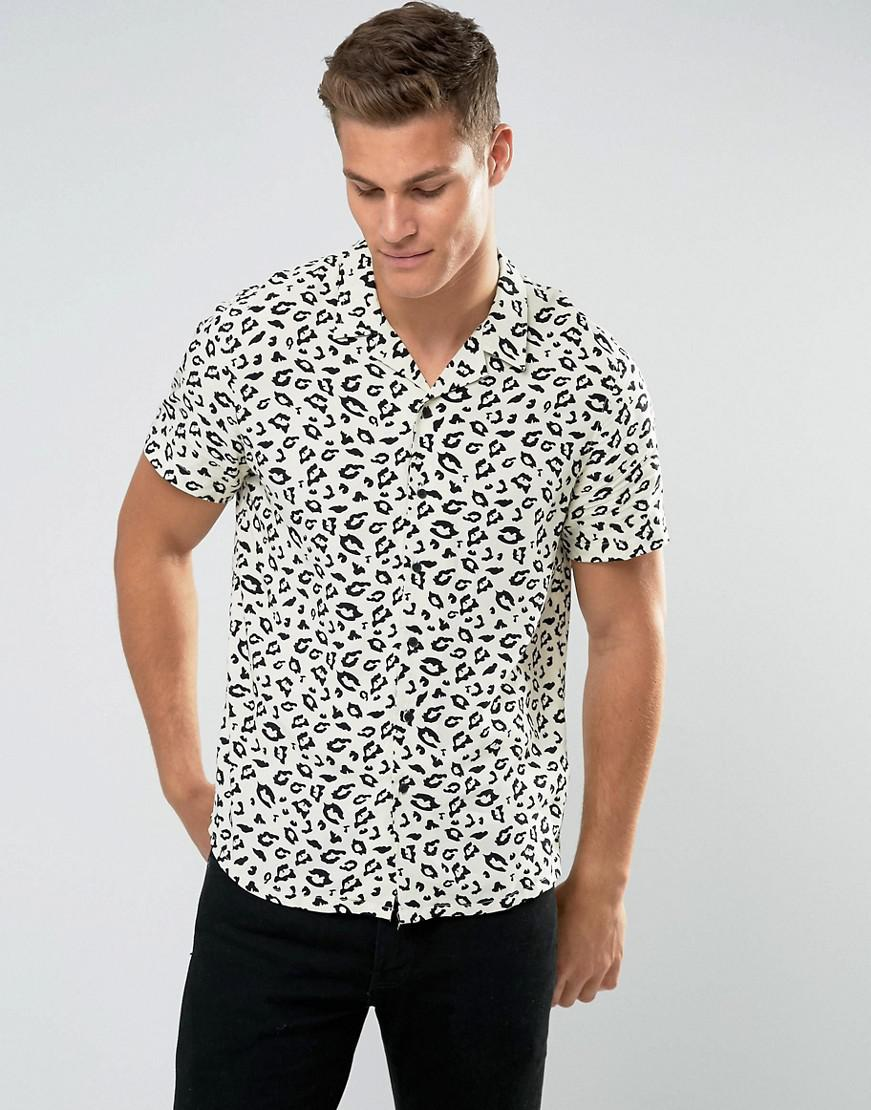teeshirt: (120, 227, 678, 935)
